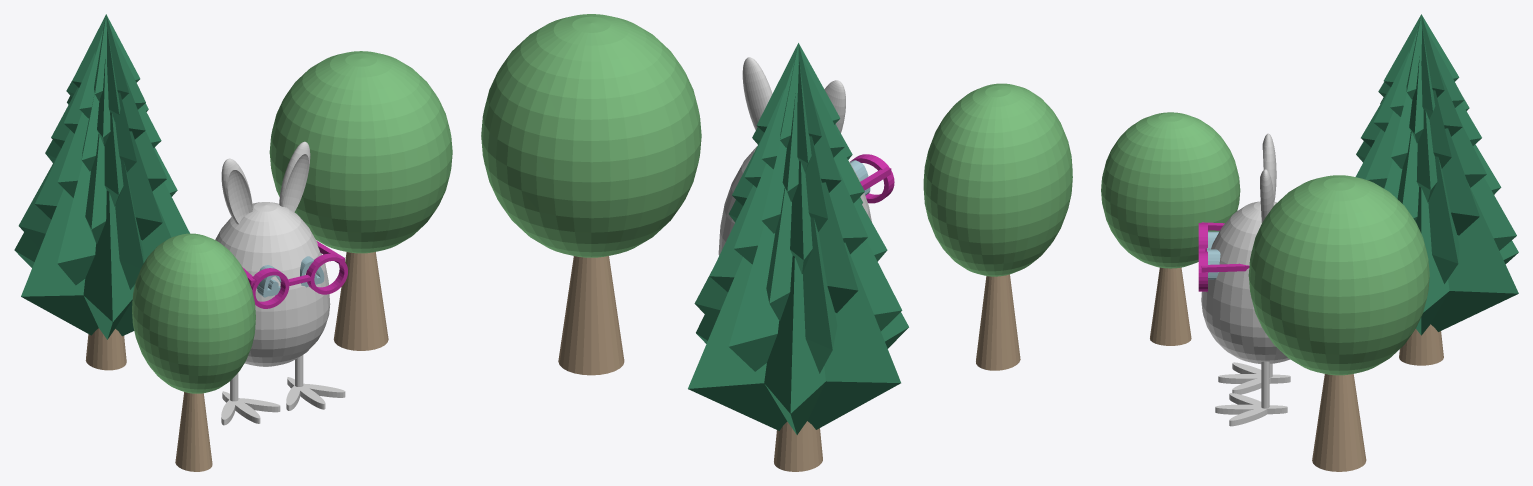
Rendered from asset.glb.
3 renders of one model, left to right at view 1: azimuth 30°, elevation 25°; view 2: azimuth 150°, elevation 25°; view 3: azimuth 270°, elevation 25°, orthographic. The views are drawn at different scales.
Parts seen in each view (by area): view 1: Mesh_Mesh_head_geo.001_lambert2SG.001; view 2: Mesh_Mesh_head_geo.001_lambert2SG.001; view 3: Mesh_Mesh_head_geo.001_lambert2SG.001.
Boxes of the visible parts, left/top/right/bottom form: Mesh_Mesh_head_geo.001_lambert2SG.001: left=14, top=14, right=452, bottom=471; Mesh_Mesh_head_geo.001_lambert2SG.001: left=481, top=14, right=1072, bottom=471; Mesh_Mesh_head_geo.001_lambert2SG.001: left=1101, top=14, right=1518, bottom=471.
Bounding box in the file's own units: 157 × 136 × 150.
